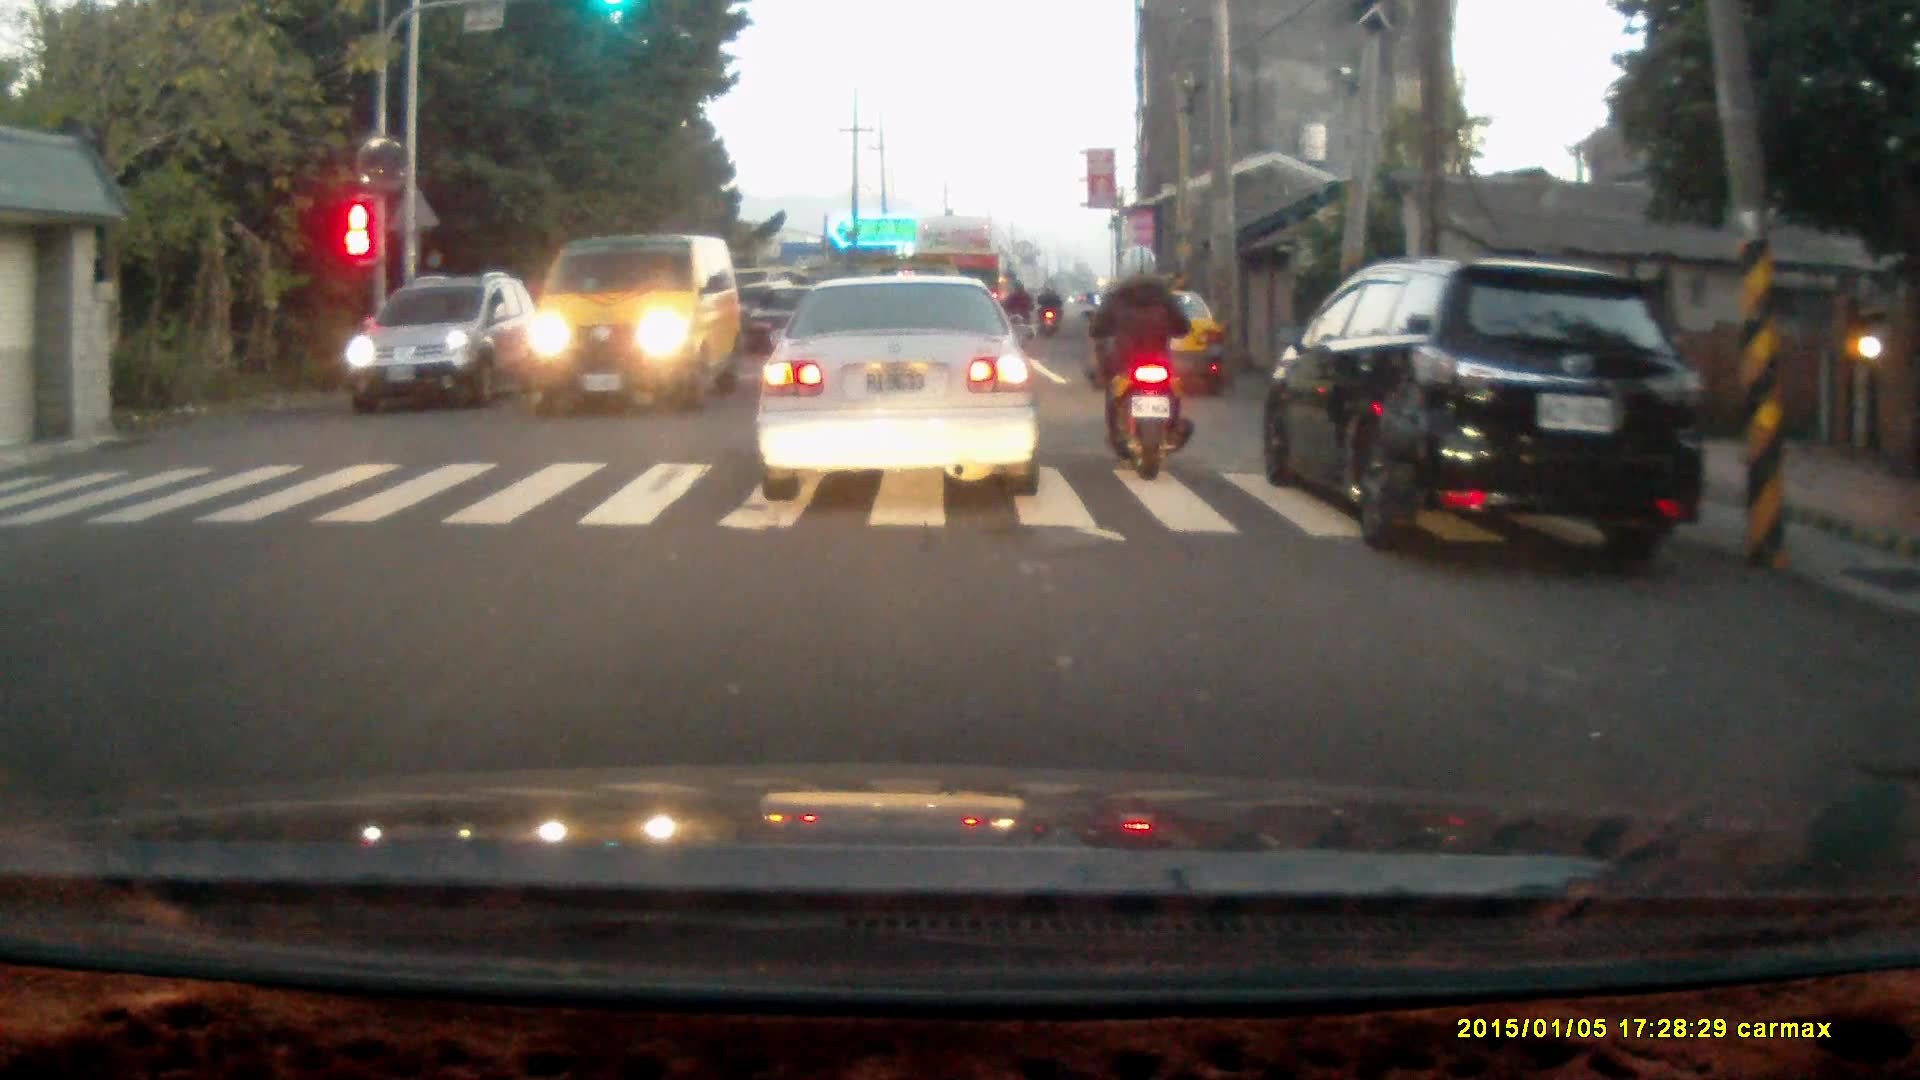rider: (1085, 243, 1191, 481)
vehicle: (1270, 261, 1712, 559), (759, 270, 1047, 498), (515, 236, 737, 423), (343, 274, 533, 407), (1090, 290, 1227, 410), (911, 218, 1016, 352)
